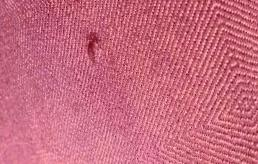knot: (85, 32, 108, 68)
